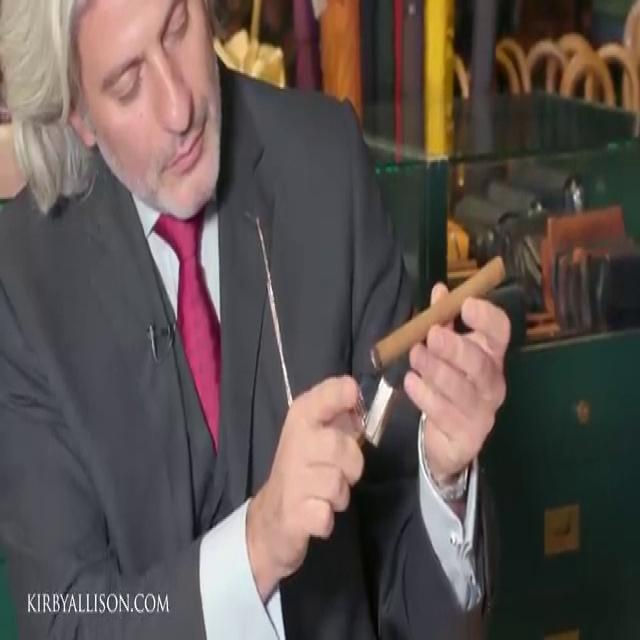Smooking: (352, 258, 531, 397)
